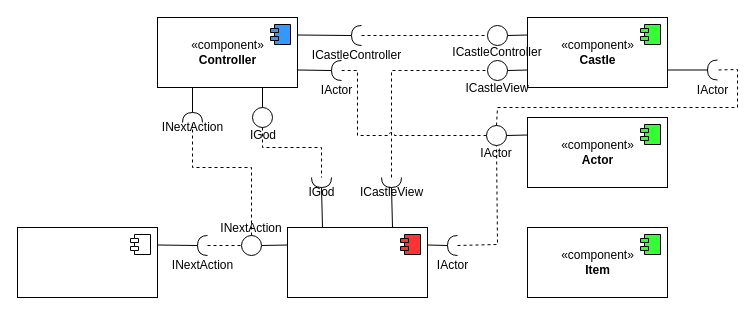
The diagram is 756 pixels wide and 315 high, and some of its shapes have lost their labels. The box of each missing label's shape, as (x1, y1, x2, y2) in pixels:
«component» Exception: (16, 226, 158, 298)
«component» View: (286, 226, 428, 298)
